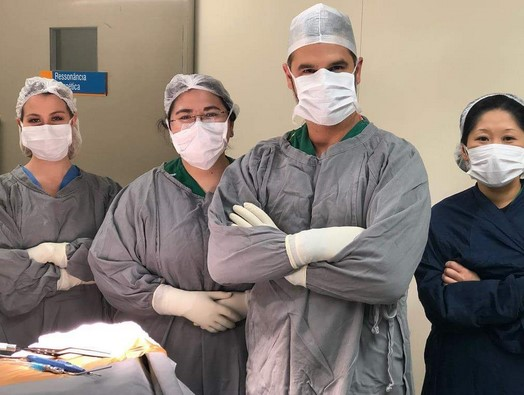face_with_mask: (281, 6, 362, 125), (162, 73, 238, 169), (460, 93, 523, 187), (14, 76, 78, 162)
